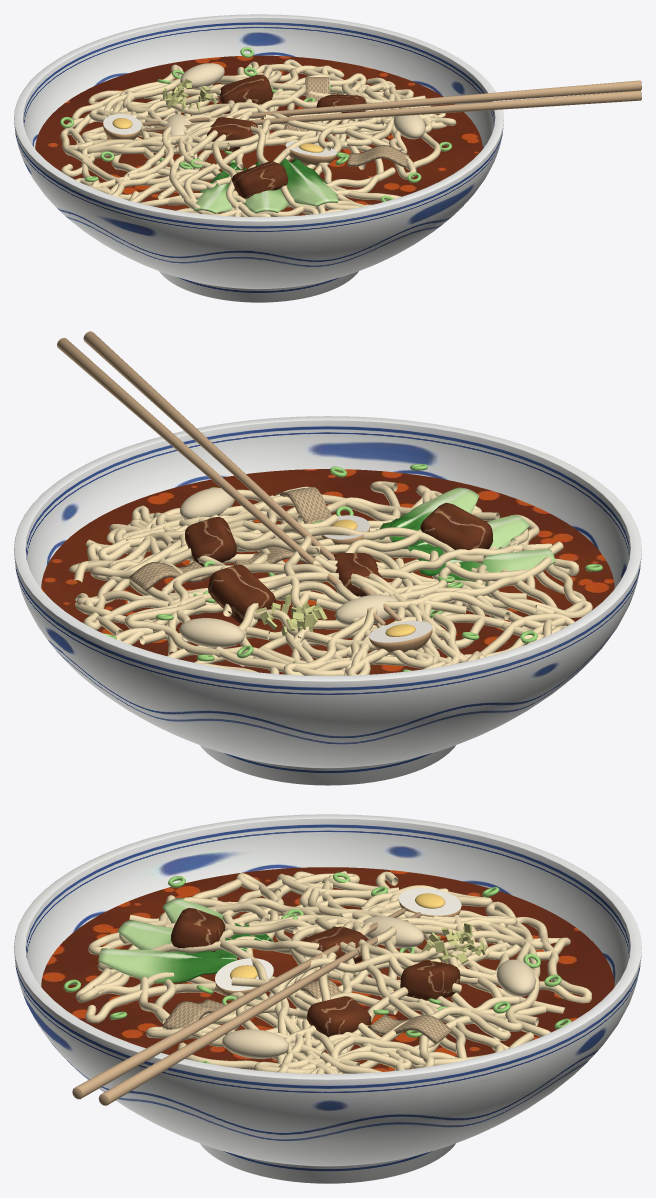
The model's file is beefnoodle.glb.
3 views of the same model, one above another, from view 1: azimuth 30°, elevation 25°; view 2: azimuth 150°, elevation 25°; view 3: azimuth 270°, elevation 25° (orthographic). The views are drawn at different scales.
Visible parts, largest first — view 1: Bowl, ExtraNoodles, Broth, Noodles, Chopstick.001, Chopstick, BokChoy.002, BeefShank.002, Scallion, BeefShank.003, BokChoy, BeefShank.001 (+9 smaller); view 2: Bowl, ExtraNoodles, Noodles, Broth, Chopstick.001, Chopstick, BeefShank.002, BeefShank.003, BeefShank, Scallion, BokChoy, BraisedEgg.001 (+10 smaller); view 3: Bowl, ExtraNoodles, Broth, Noodles, Chopstick.001, BokChoy.002, Chopstick, Scallion, BeefShank.003, BeefShank, BeefShank.002, Tendon.002 (+10 smaller).
Boxes of the visible parts, box(x1,y1,x2,y2) form: Bowl: box(14, 14, 503, 302); ExtraNoodles: box(75, 64, 434, 216); Broth: box(35, 55, 482, 215); Noodles: box(60, 59, 456, 216); Chopstick.001: box(143, 80, 641, 126); Chopstick: box(143, 90, 641, 131); BokChoy.002: box(280, 158, 338, 206); BeefShank.002: box(231, 161, 287, 198); Scallion: box(60, 47, 451, 204); BeefShank.003: box(219, 74, 273, 113); BokChoy: box(193, 162, 246, 213); BeefShank.001: box(207, 117, 257, 151); Bowl: box(14, 416, 641, 785); ExtraNoodles: box(90, 486, 552, 675); Noodles: box(69, 481, 592, 675); Broth: box(41, 469, 614, 674); Chopstick.001: box(57, 338, 385, 625); Chopstick: box(83, 331, 401, 621); BeefShank.002: box(420, 502, 493, 550); BeefShank.003: box(208, 564, 275, 623); BeefShank: box(185, 517, 236, 566); Scallion: box(103, 464, 602, 671); BokChoy: box(418, 549, 555, 586); BraisedEgg.001: box(369, 621, 432, 655); Bowl: box(14, 814, 641, 1183); ExtraNoodles: box(97, 888, 543, 1073); Broth: box(41, 867, 614, 1071); Noodles: box(75, 871, 591, 1073); Chopstick.001: box(98, 912, 421, 1105); BokChoy.002: box(98, 948, 238, 983); Chopstick: box(72, 908, 405, 1099); Scallion: box(63, 872, 571, 1063); BeefShank.003: box(400, 960, 460, 1000); BeefShank: box(307, 996, 371, 1036); BeefShank.002: box(170, 908, 225, 951); Tendon.002: box(222, 1029, 288, 1058).
Bounding box in the file's own units: 1.97 × 0.6267 × 1.64.
Materials: 13 (5 with a texture image).
